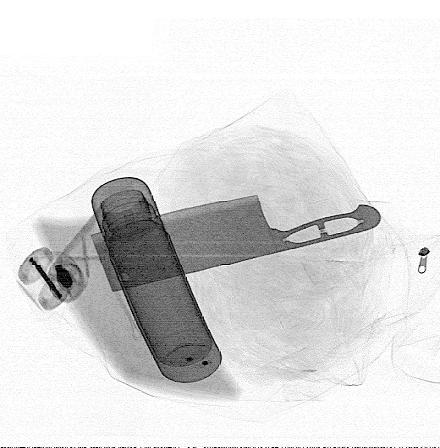Knife: (88, 193, 384, 295)
